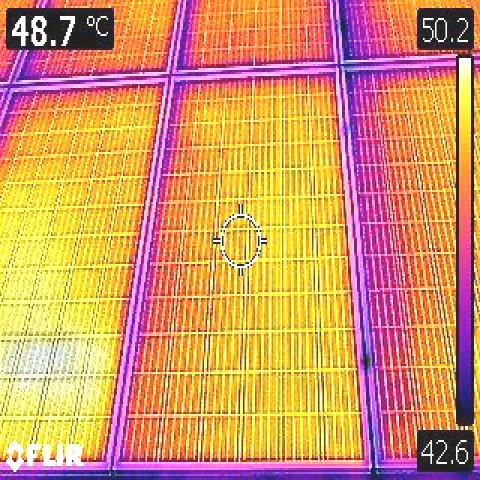fault: (2, 331, 76, 383)
